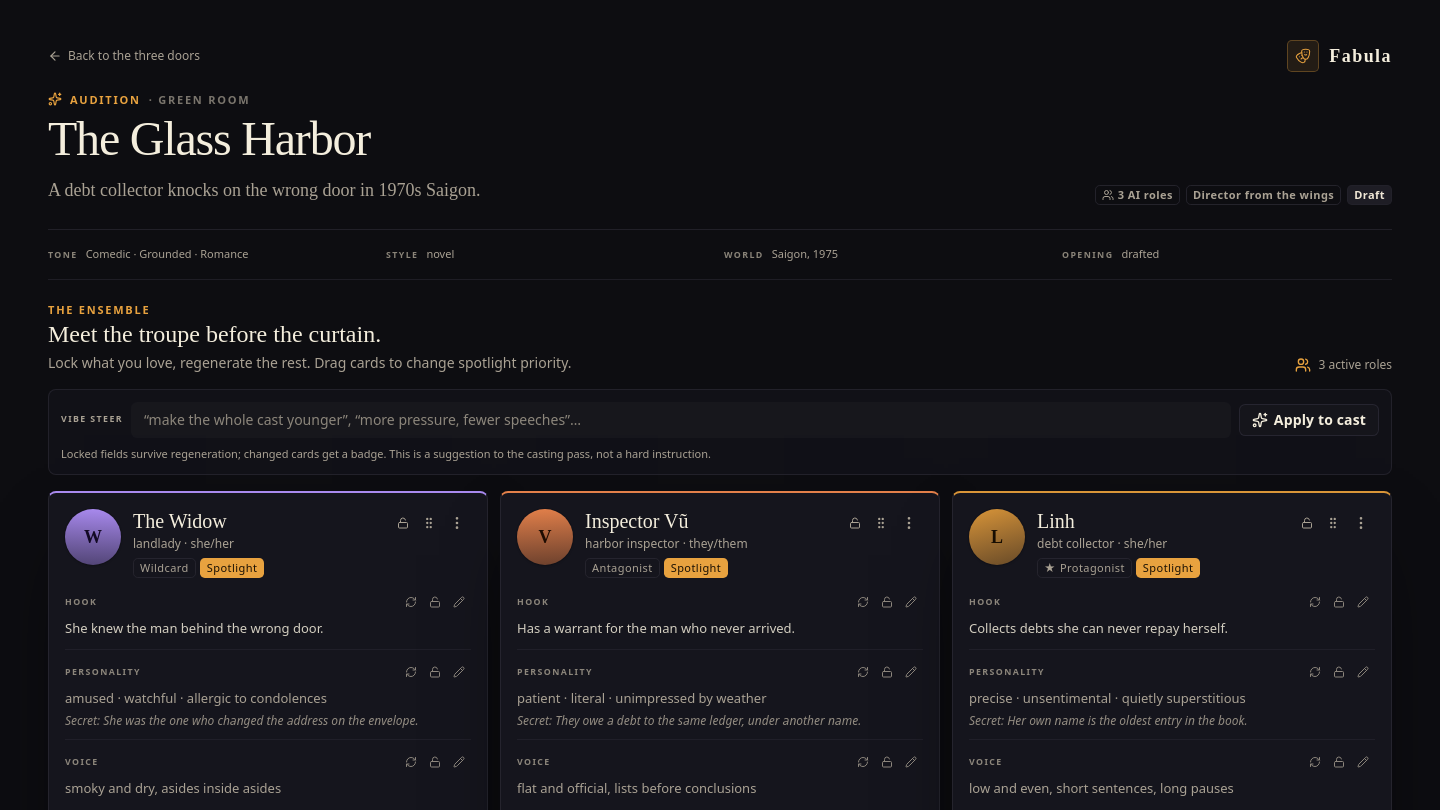
Test: audition grid › field regeneration changes an unlocked field and marks it changed
Click the button named "Regenerate Hook for The Widow".
click(411, 602)  # box [399,590,423,614]
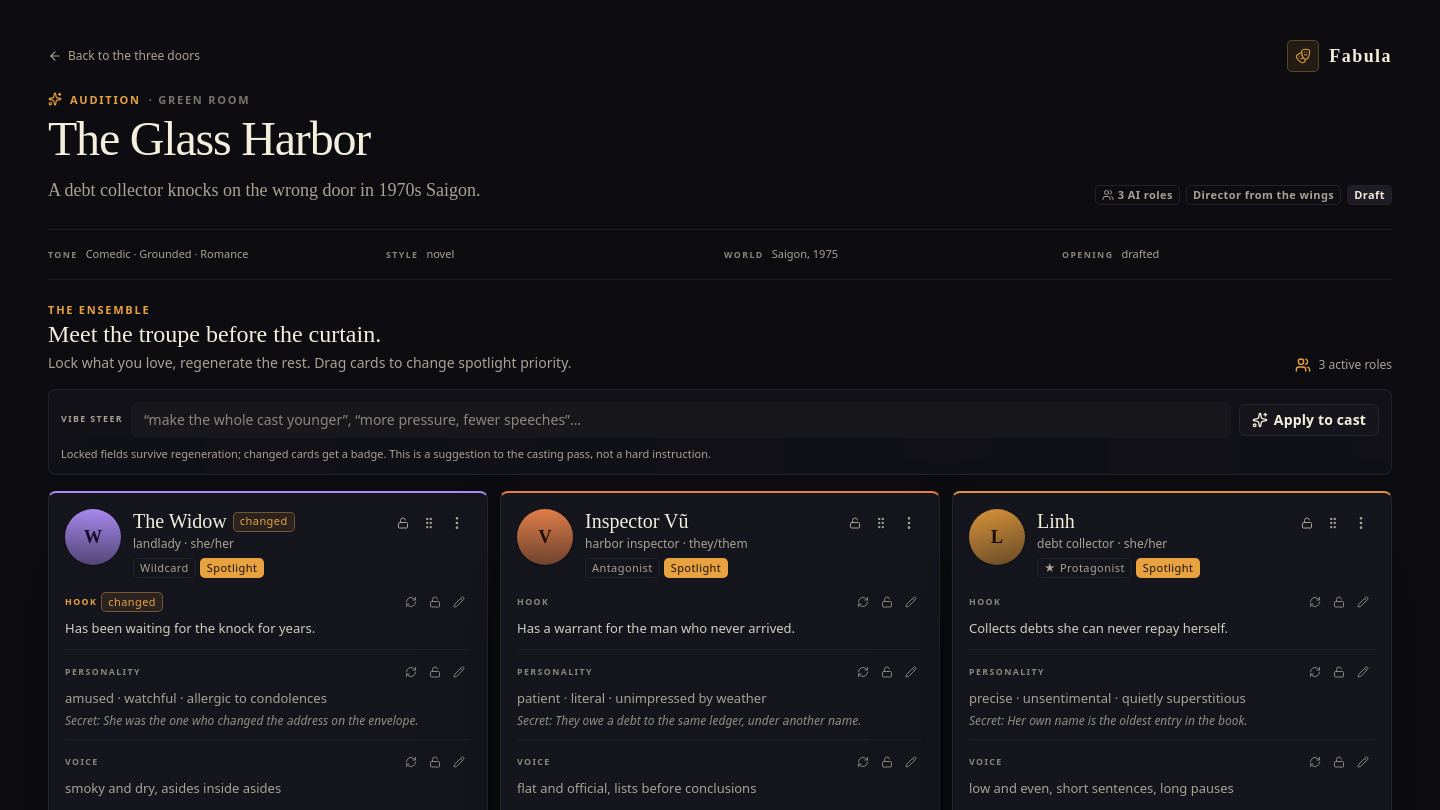
expect the text "changed" next to "The Widow" is shown: met, box [240,513,288,528]
expect the text "She knew the man behind the wrong door." is gone: met
